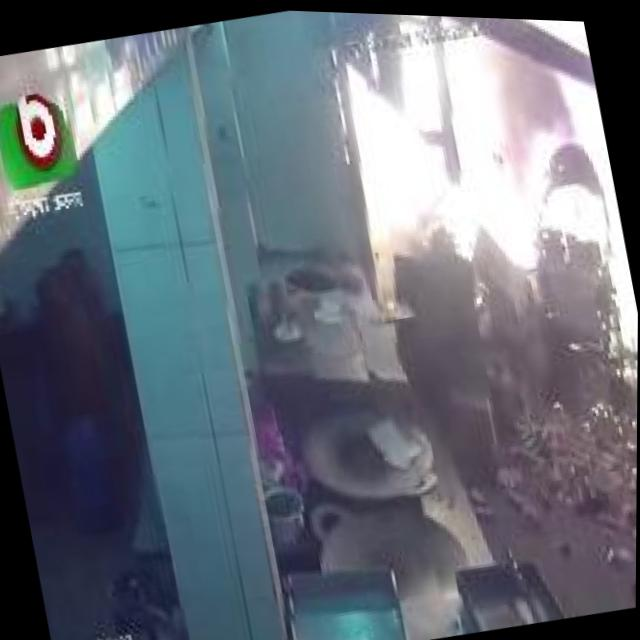fire: (332, 10, 569, 335), (458, 13, 640, 378)
